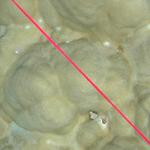alive: (2, 3, 146, 146)
